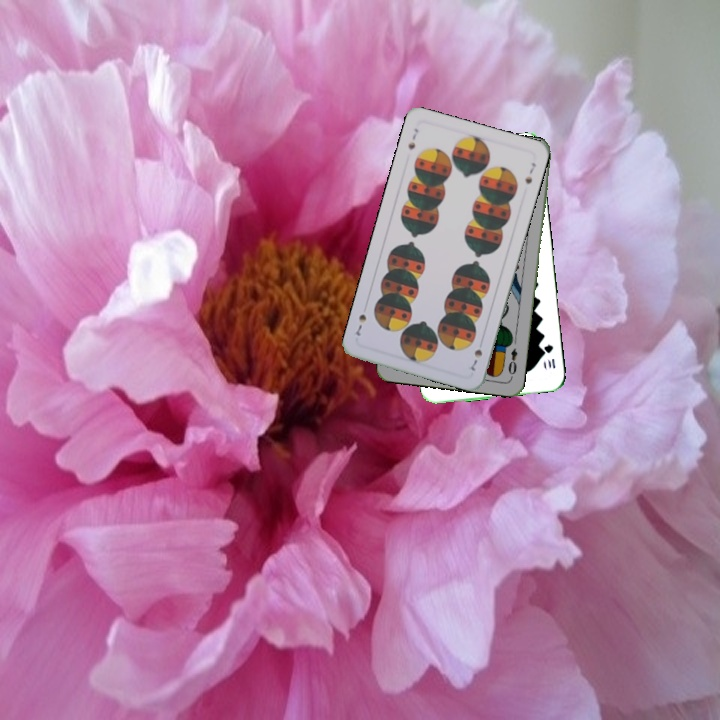EO: (504, 344, 520, 377)
G10: (540, 340, 558, 371)
S7: (467, 345, 485, 373), (404, 124, 421, 152)
